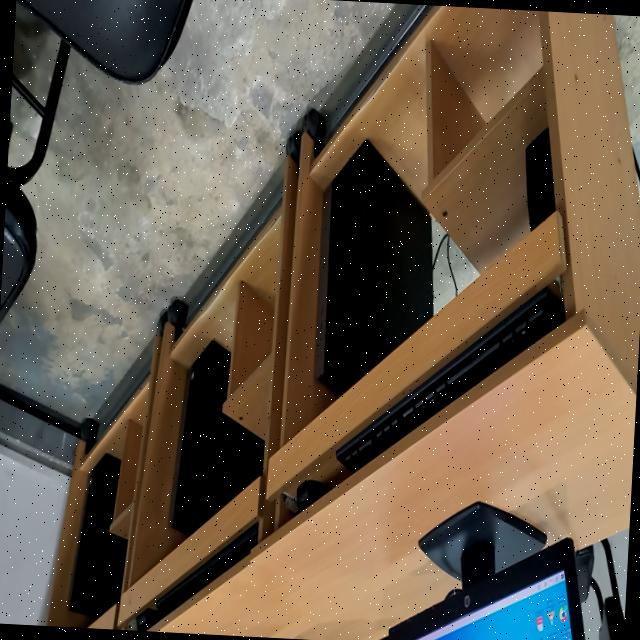Chair: (0, 42, 70, 325), (16, 0, 193, 84), (576, 539, 625, 640)
Cpu: (316, 140, 433, 395), (171, 341, 264, 534), (70, 455, 126, 618)
Monitor: (390, 502, 585, 640)
